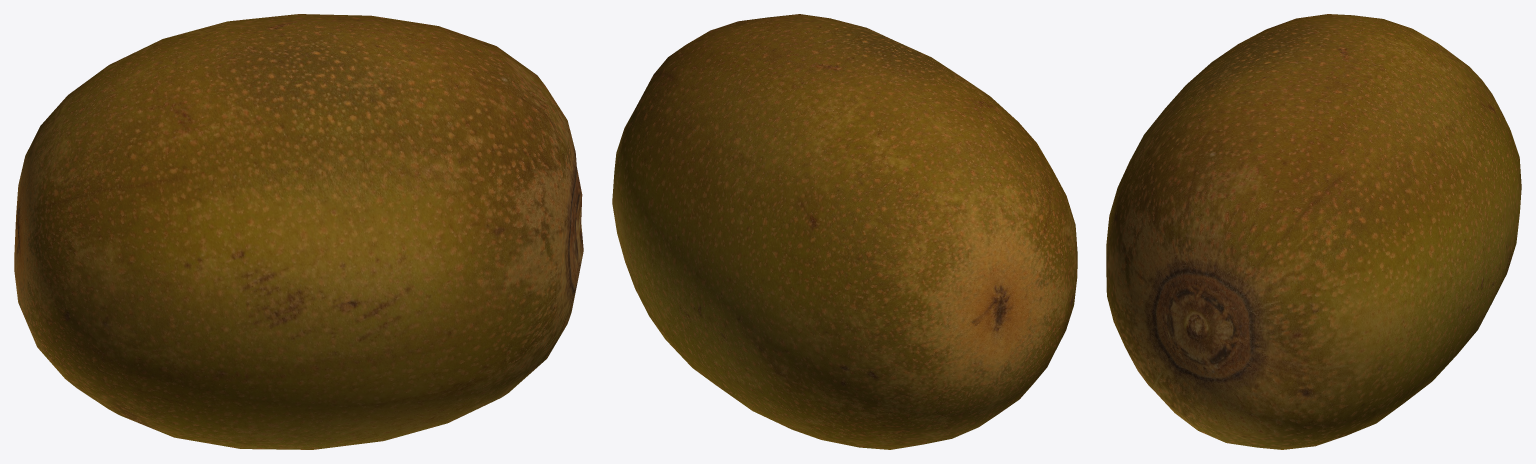
Rendered from kiwi.fbx.
The picture shows the model from 3 angles, left to right: view 1: azimuth 30°, elevation 25°; view 2: azimuth 150°, elevation 25°; view 3: azimuth 270°, elevation 25°; orthographic projection. The views are drawn at different scales.
Visible parts, largest first — view 1: Kiwi; view 2: Kiwi; view 3: Kiwi.
Part boxes in pixels (left/top/right/bottom): Kiwi: left=14, top=14, right=583, bottom=449; Kiwi: left=612, top=14, right=1077, bottom=449; Kiwi: left=1106, top=14, right=1521, bottom=449.
Bounding box in the file's own units: 25.06 × 19.34 × 20.05.
Materials: 1 (1 with a texture image).
